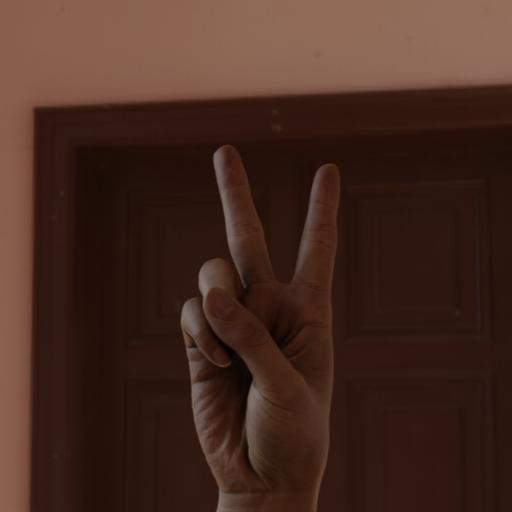V: (159, 124, 390, 512)
